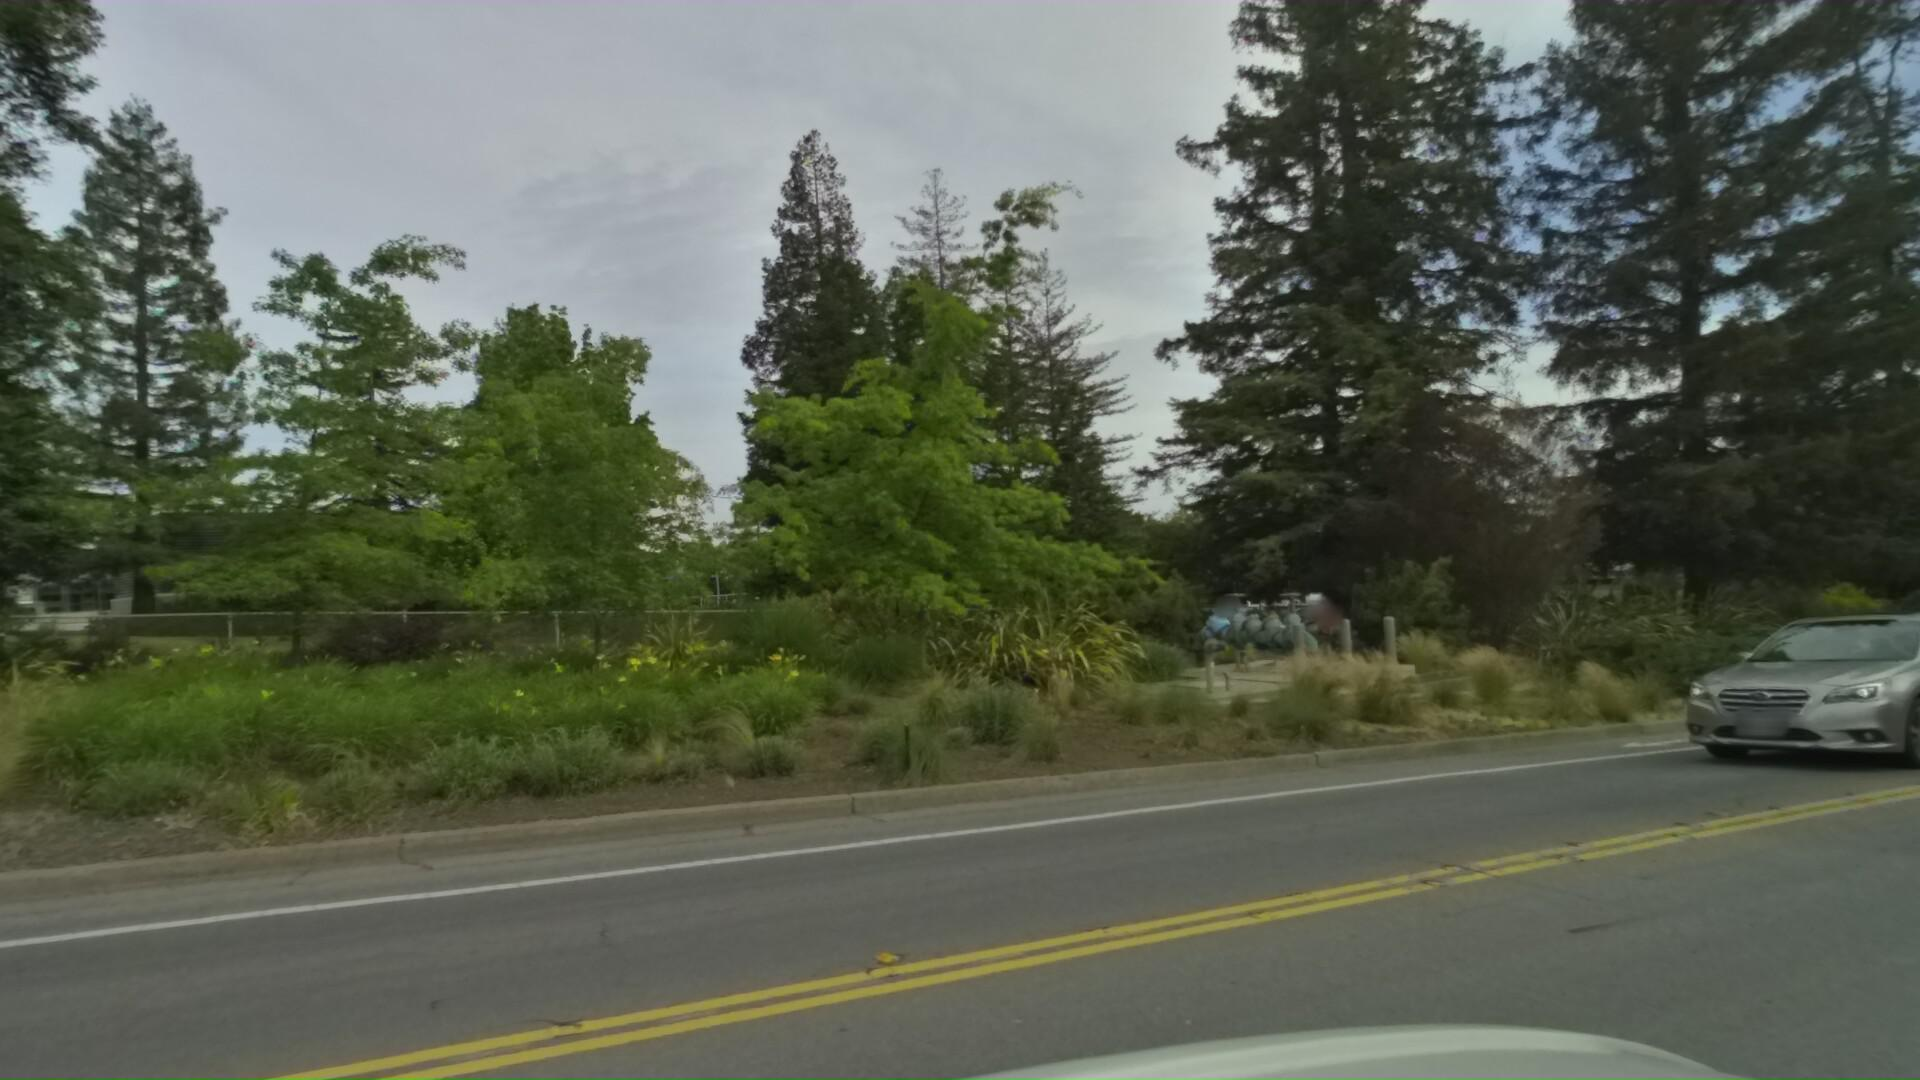car: (1575, 582, 1920, 808)
